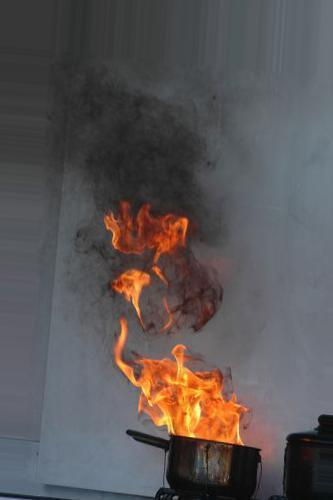fire: (92, 197, 250, 445)
